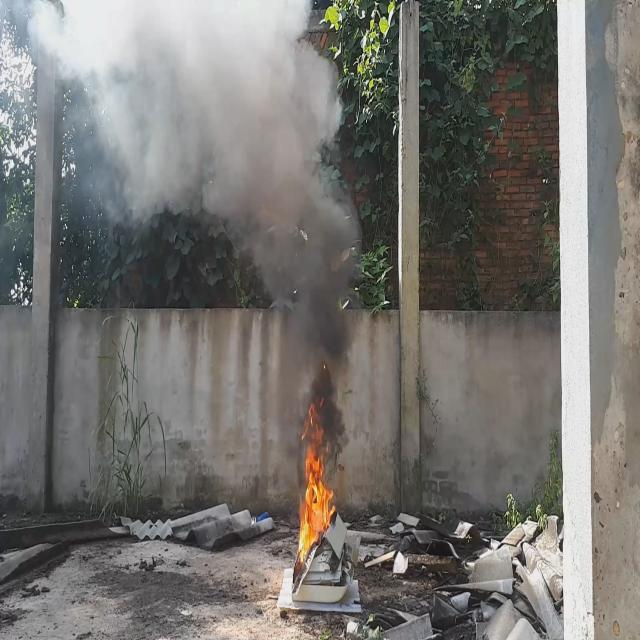Fire: (296, 392, 336, 572)
Smoke: (22, 0, 366, 461)
